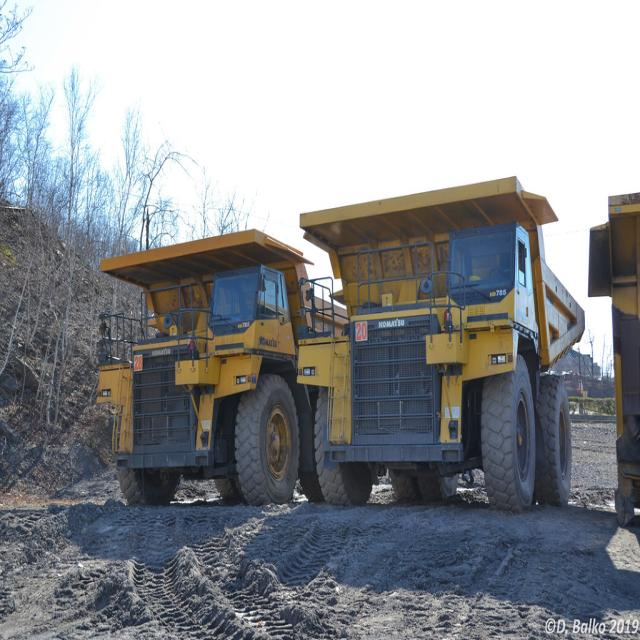dump_truck: (296, 177, 584, 531), (95, 225, 316, 504)
